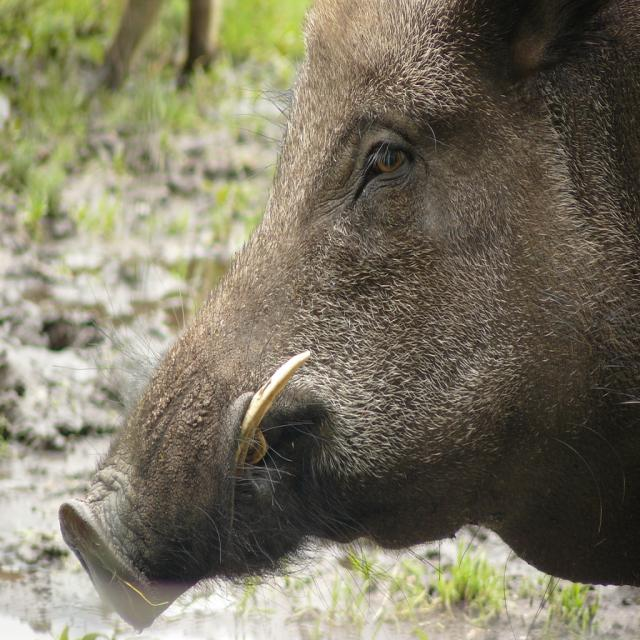Pig: (51, 0, 640, 640)
